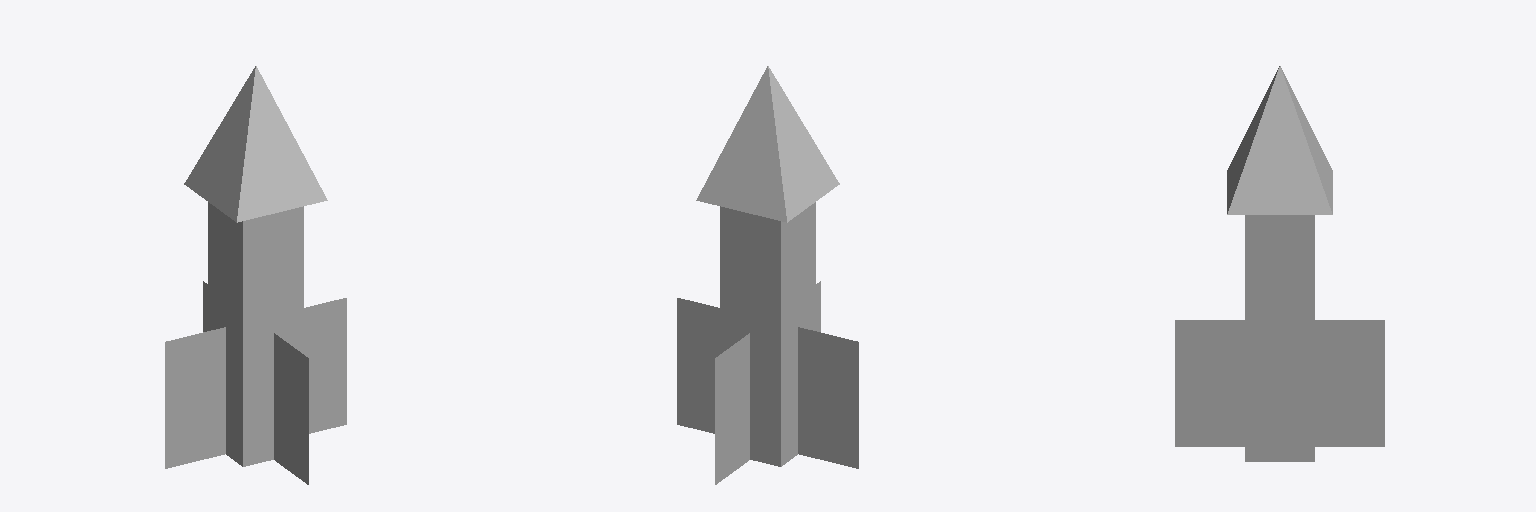
The model's file is fire_works_rocket_model.obj.
3 renders of one model, left to right at view 1: azimuth 30°, elevation 25°; view 2: azimuth 150°, elevation 25°; view 3: azimuth 270°, elevation 25°, orthographic.
Parts seen in each view (by area): view 1: cube; view 2: cube; view 3: cube.
Boxes of the visible parts, x1=… form: cube: x1=165, y1=66, x2=346, y2=484; cube: x1=677, y1=66, x2=858, y2=484; cube: x1=1175, y1=66, x2=1384, y2=461.
Bounding box in the file's own units: 0.375 × 0.75 × 0.375.